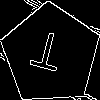T: (26, 29, 66, 82)
